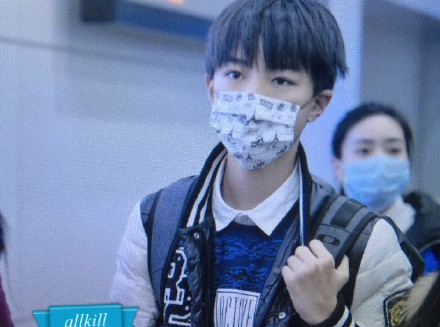face_mask: (207, 38, 310, 167), (343, 118, 406, 202)
